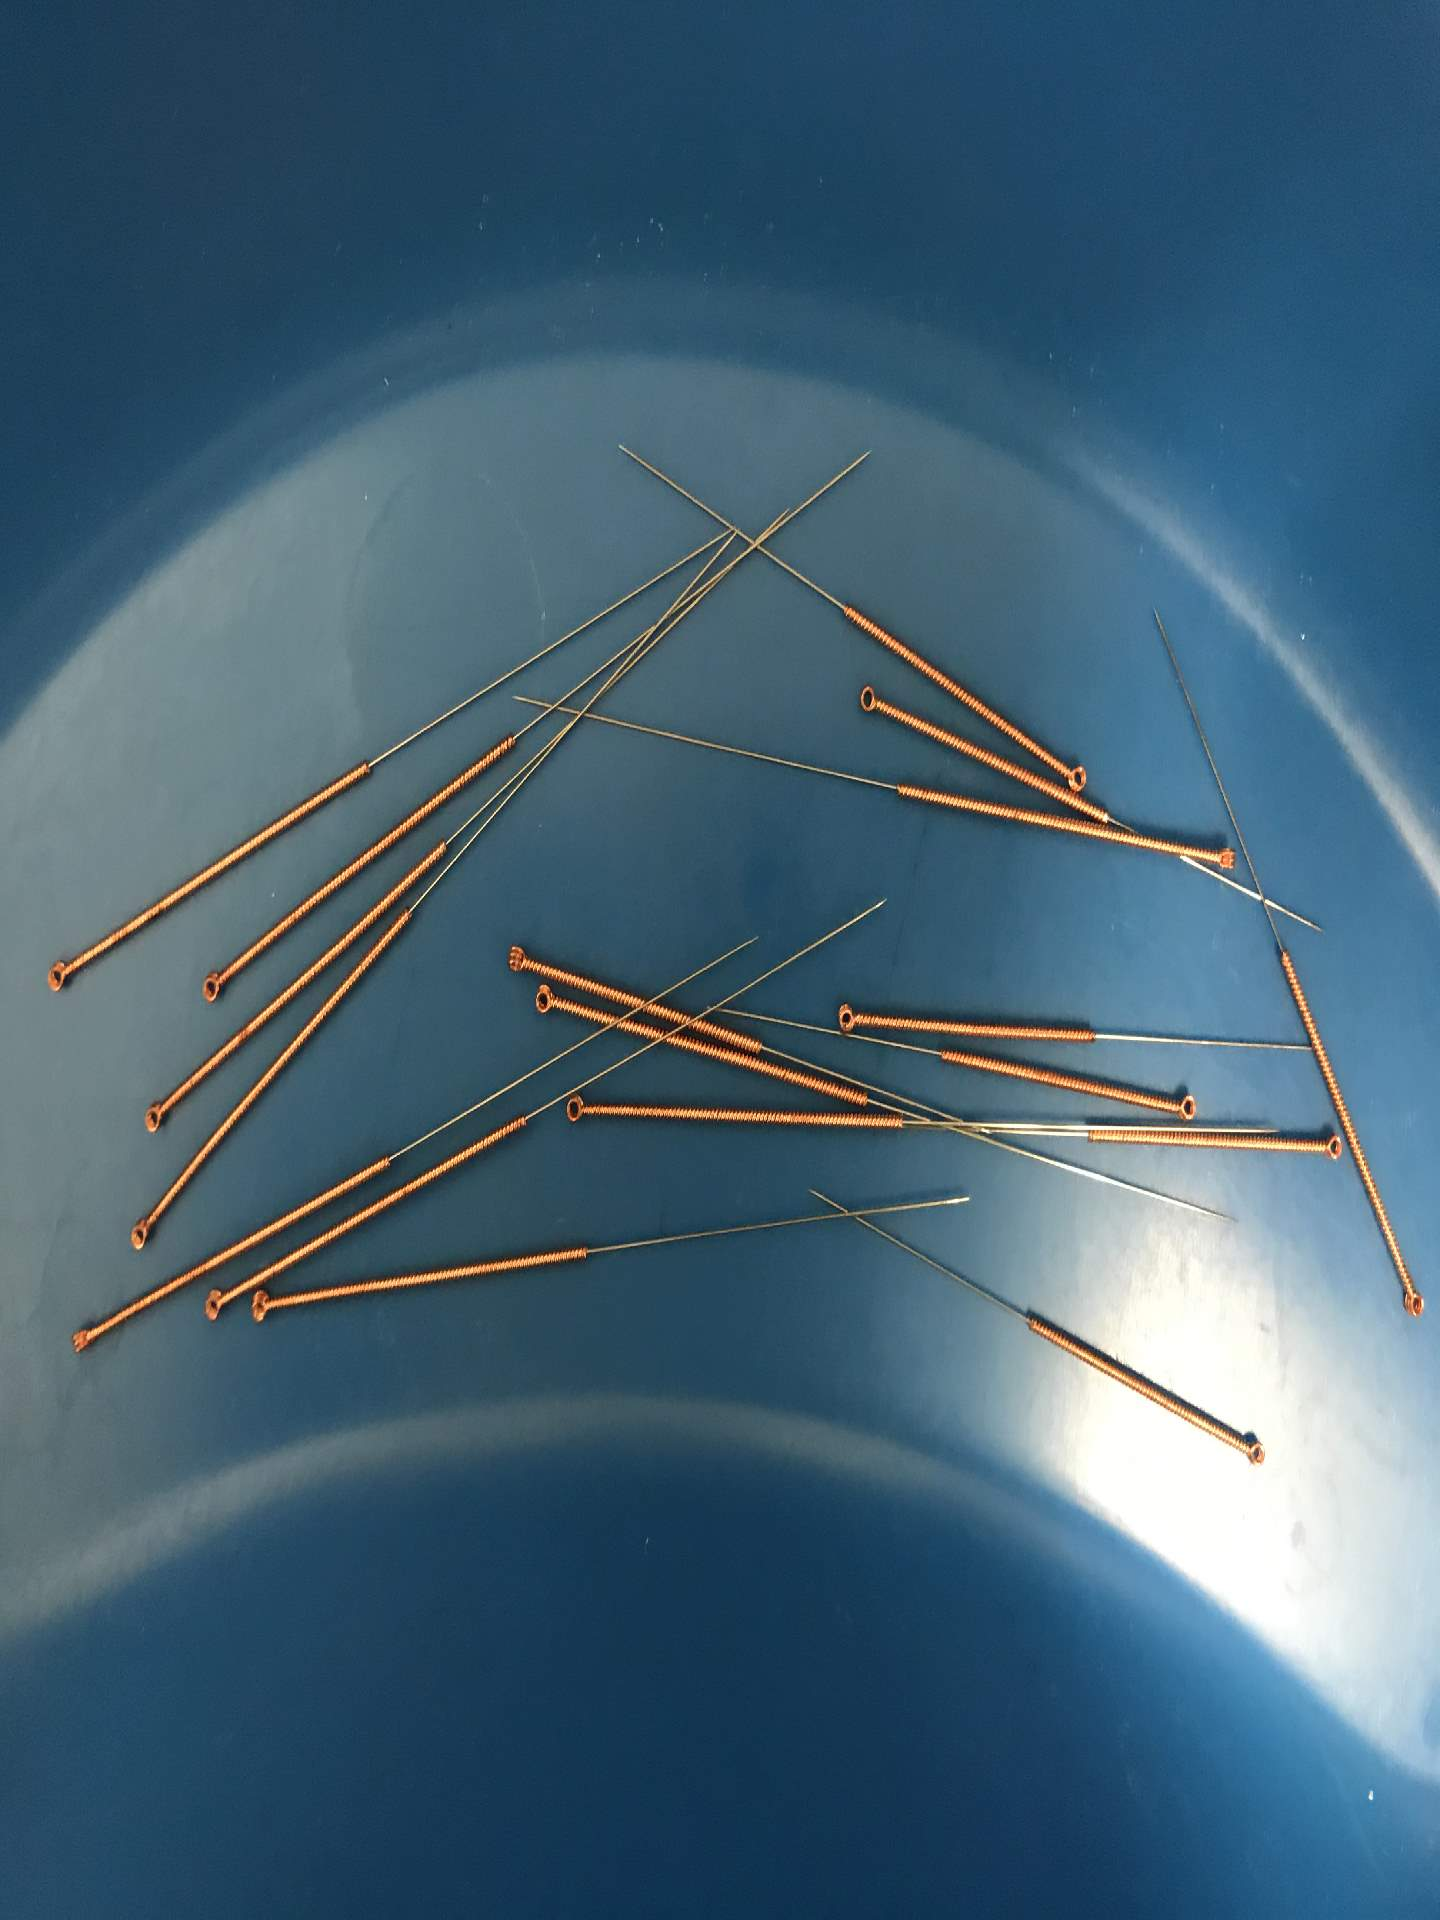needle: (36, 951, 82, 999), (191, 1279, 236, 1327), (192, 962, 234, 1011), (62, 1314, 104, 1364), (1392, 1277, 1432, 1326), (119, 1209, 160, 1258), (824, 998, 870, 1040), (1231, 1429, 1274, 1474), (135, 1093, 175, 1140), (244, 1284, 283, 1332), (496, 937, 538, 980), (523, 980, 564, 1023), (1054, 753, 1094, 797), (1203, 838, 1243, 878), (847, 677, 886, 720), (557, 1089, 594, 1132), (1165, 1085, 1203, 1128), (1313, 1126, 1349, 1166)
